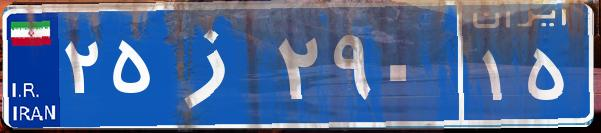0: (385, 28, 445, 110)
1: (475, 38, 525, 113)
2: (273, 28, 330, 110), (57, 26, 110, 107)
5: (110, 28, 158, 105), (525, 38, 570, 115)
9: (330, 28, 385, 110)
ز: (158, 15, 273, 115)
